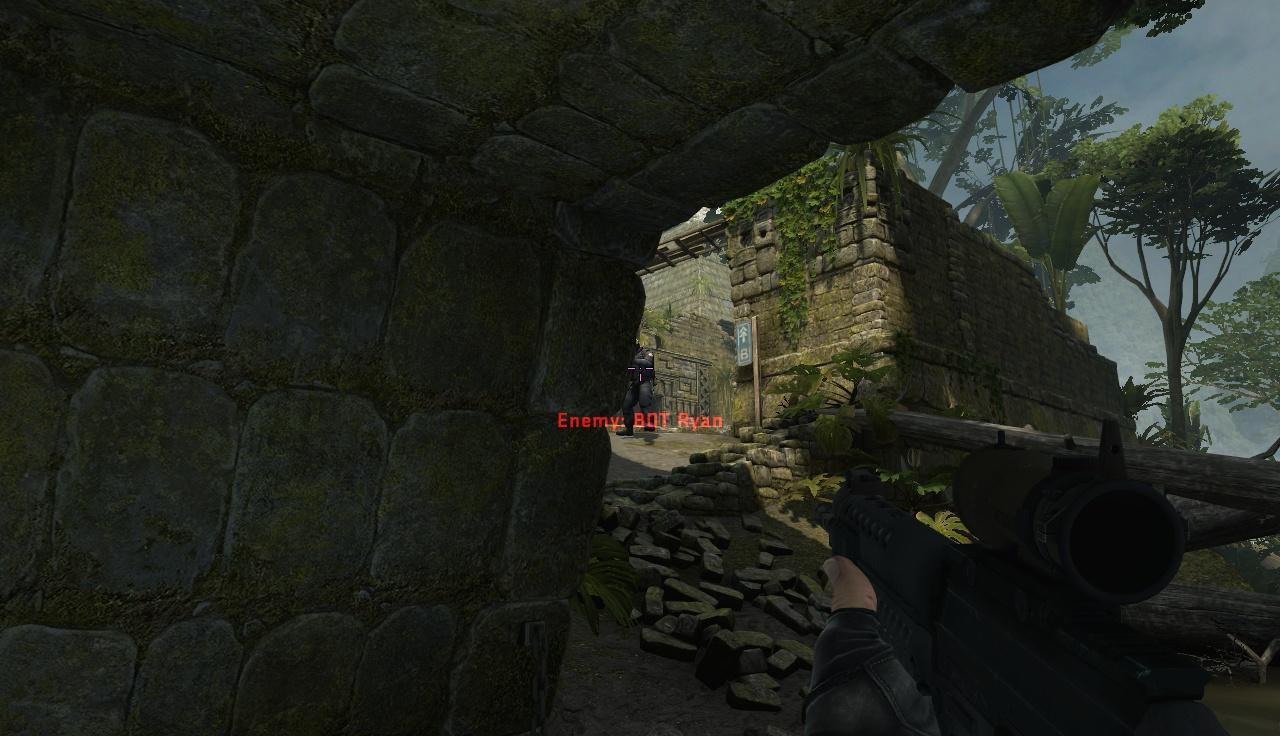ct: (627, 349, 657, 436)
rifle: (824, 435, 1280, 732)
